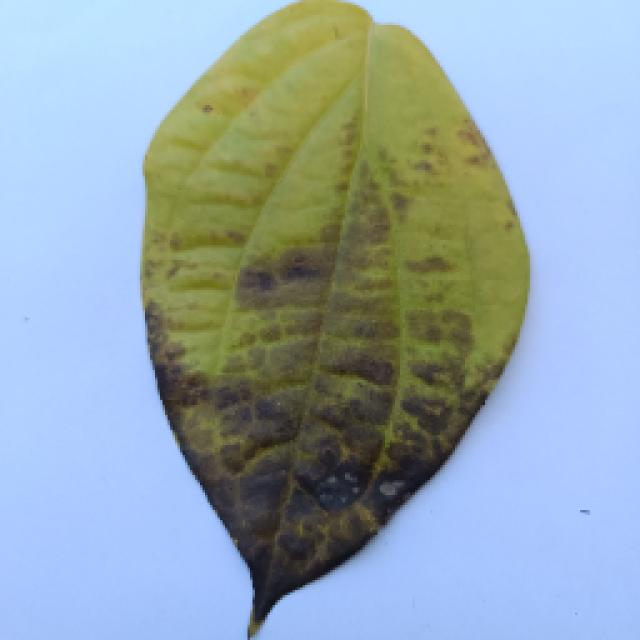slow-decline: (90, 20, 588, 638)
